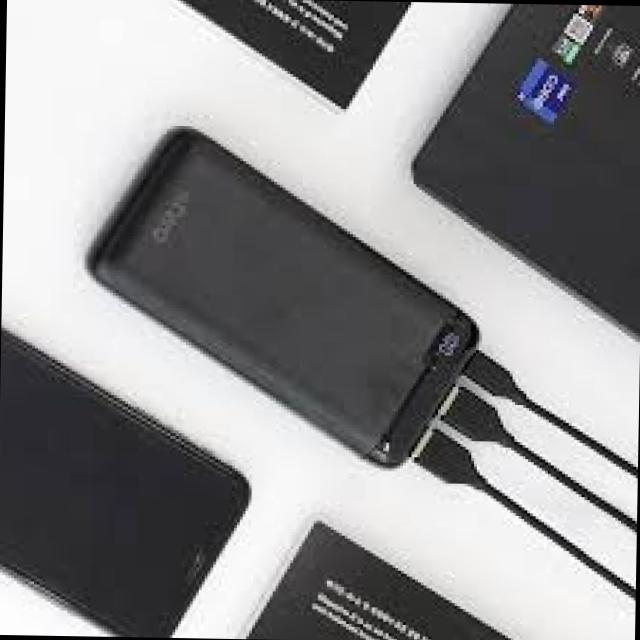power_bank: (82, 122, 486, 470)
